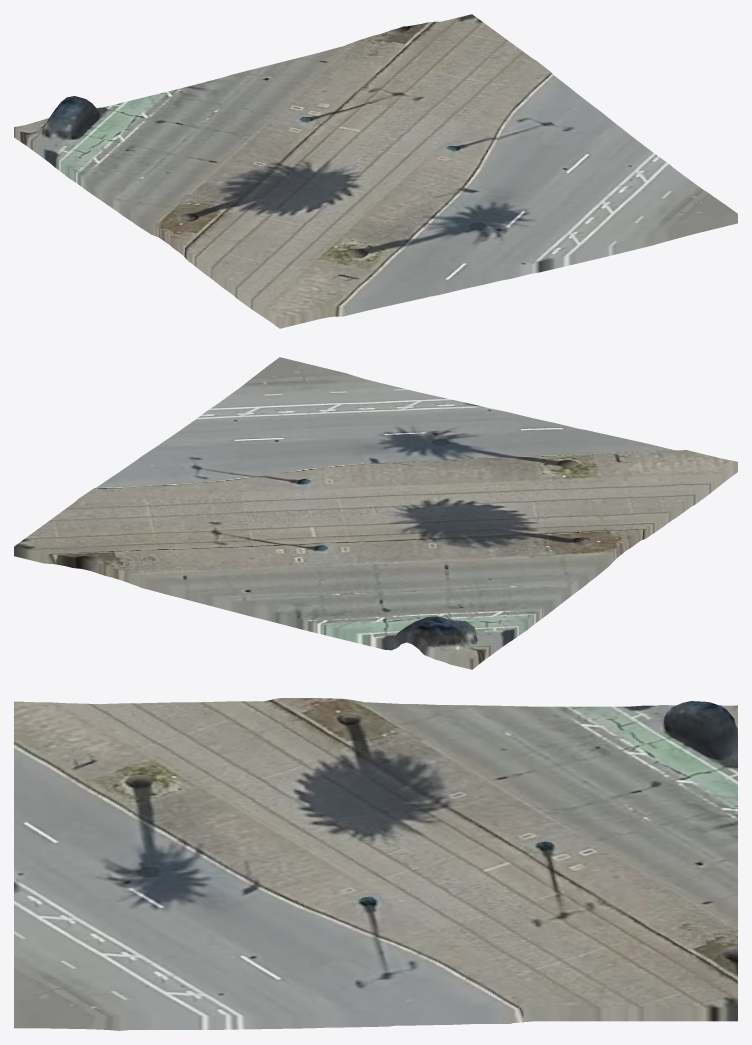
The model's file is z20-167781-405210-h0-yup-uvflip-v3-world.glb.
The picture shows the model from 3 angles, top to bottom: view 1: azimuth 30°, elevation 25°; view 2: azimuth 150°, elevation 25°; view 3: azimuth 270°, elevation 25°; orthographic projection. The views are drawn at different scales.
Size of the model in its own units: 30.16 by 2.36 by 30.32.
Materials: 1 (1 with a texture image).
